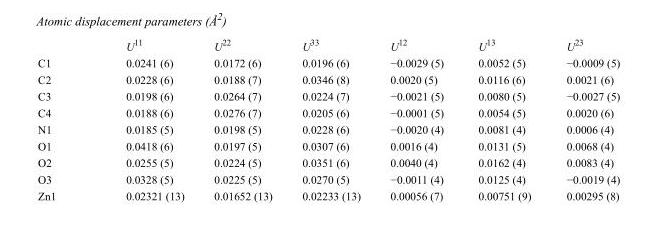table: (37, 36, 619, 201)
table column: (90, 36, 198, 201), (198, 36, 286, 201), (286, 36, 374, 201), (460, 36, 548, 201), (374, 36, 460, 201), (548, 36, 619, 201), (37, 36, 90, 201)
table column header: (37, 36, 619, 54)
table row: (37, 36, 619, 54), (37, 70, 619, 87), (37, 103, 619, 120), (37, 120, 619, 137), (37, 153, 619, 170), (37, 170, 619, 187), (37, 54, 619, 70), (37, 87, 619, 103), (37, 137, 619, 153), (37, 187, 619, 201)
